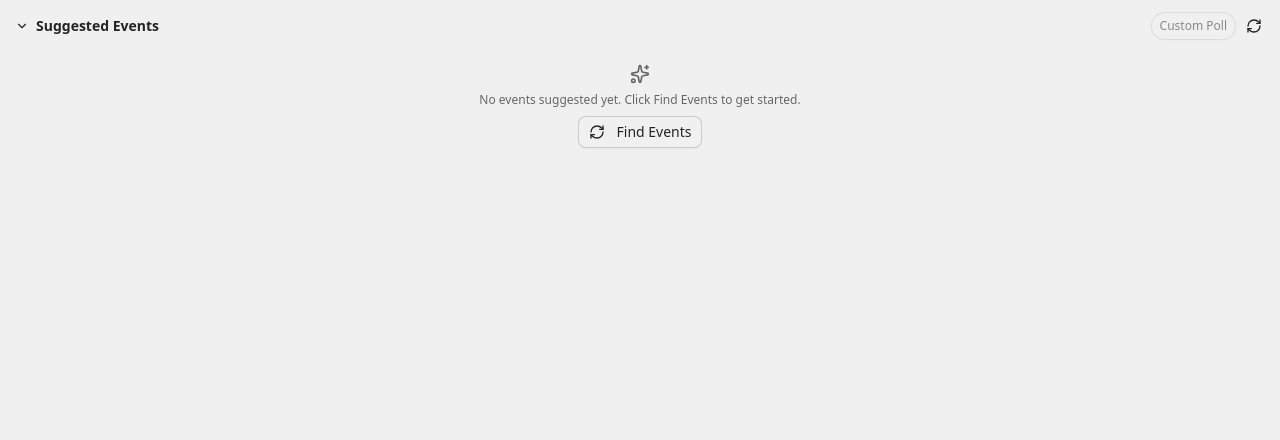
Test: restores previous recommendations when an empty area search is cleared
Step 1. Click the button "Find Events" → (640, 132), box [578,116,702,148]
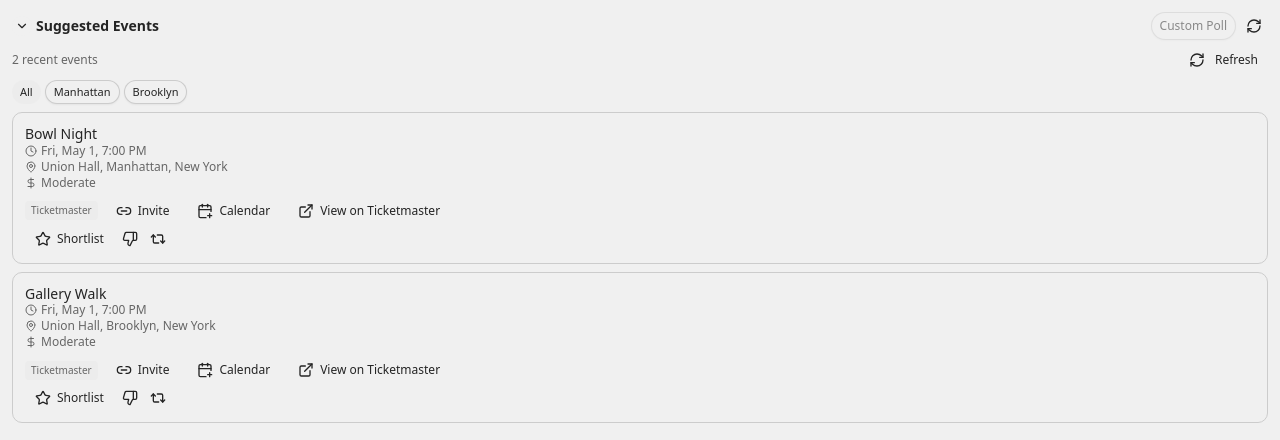
Check: the text "Bowl Night" is shown, box [25,125,97,142]
Step 2. Click the button "Brooklyn" → (155, 92), box [124,80,187,104]
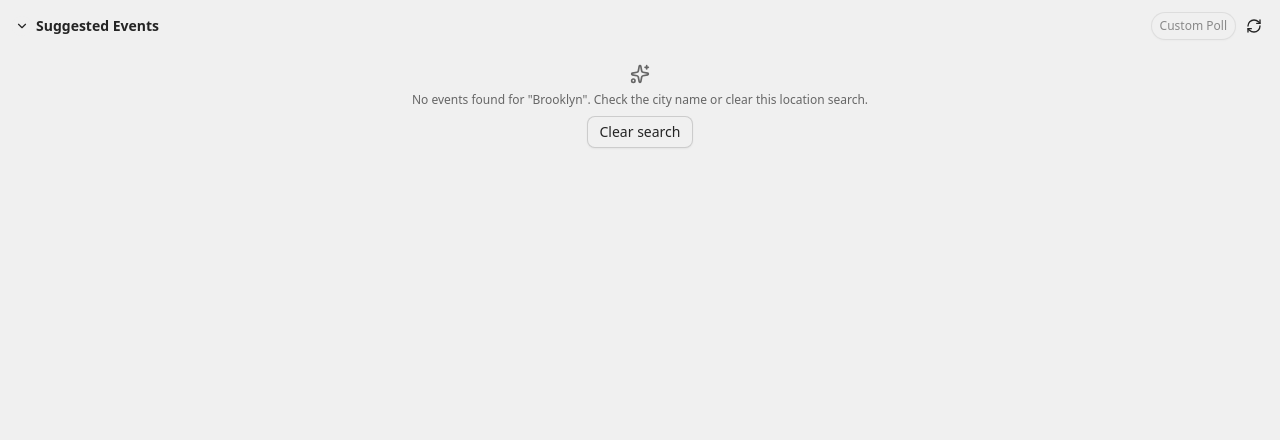
Check: the text "No events found for \"Brooklyn\"" is shown, box [412,92,868,108]
Check: the text "Bowl Night" is gone
Step 3. Click the button "Clear search" → (640, 132), box [586,116,694,148]
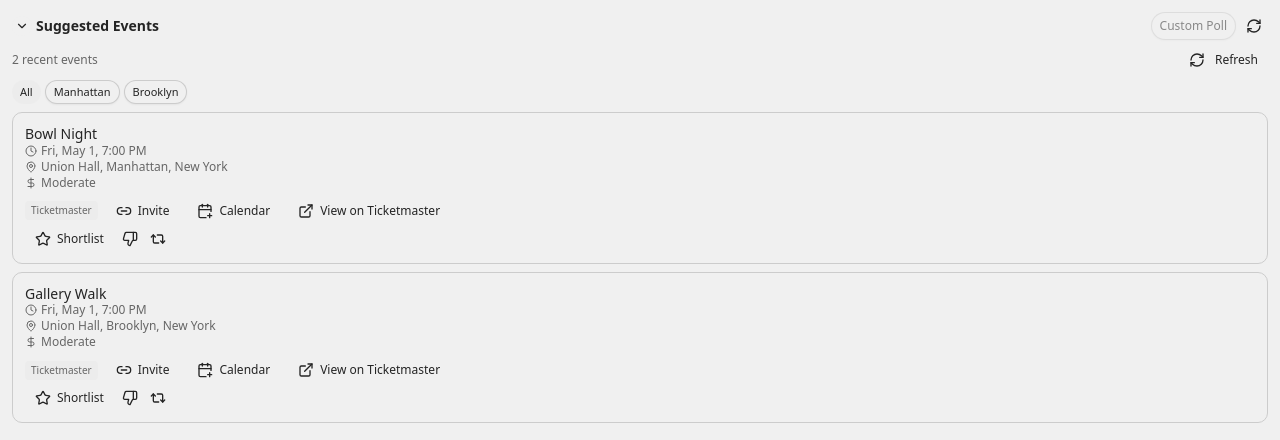
Check: the text "Bowl Night" is shown, box [25,125,97,142]
Check: the text "Gallery Walk" is shown, box [25,284,106,302]
Check: the button "All" is shown, box [12,80,41,104]
